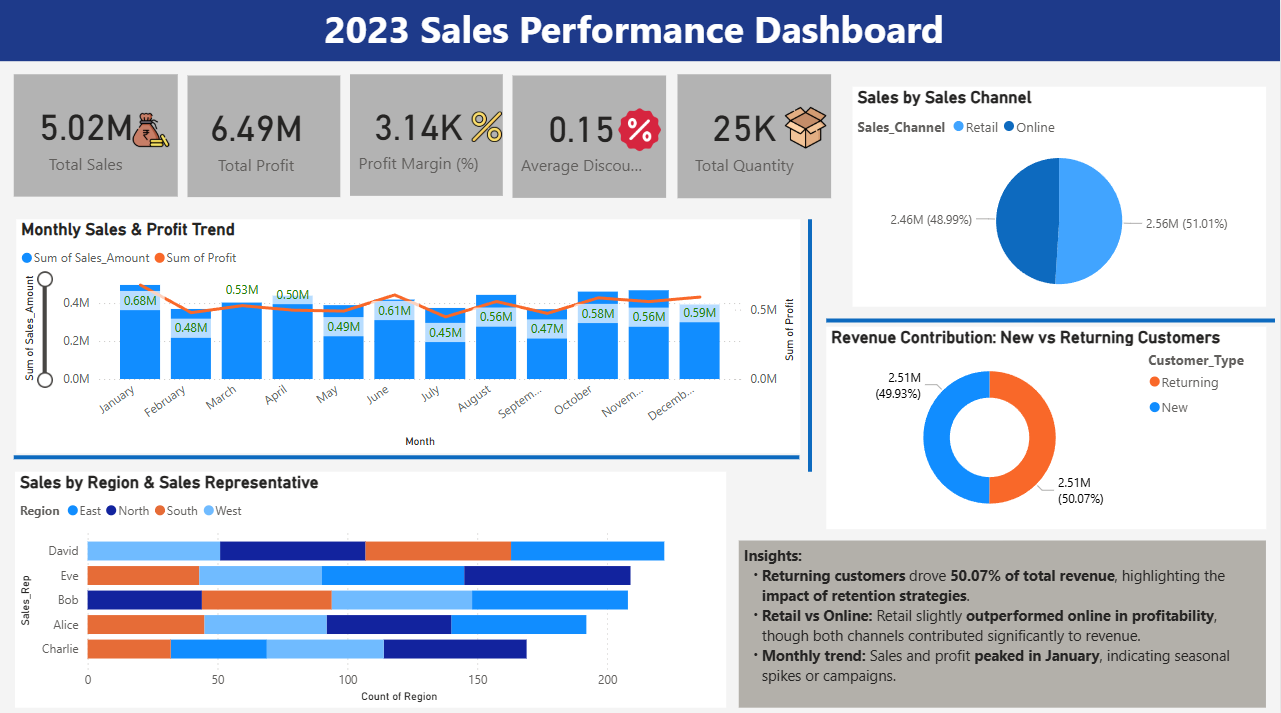

What the dashboard file says about the page in this screenshot:
{"tool":"powerbi","page":{"name":"Page 1","canvas":[1280,720],"ordinal":0},"visuals":[{"type":"textbox","box":[0,0,1280,62.9],"z":0},{"type":"card","fields":{"Values":["sales_data.Total Sales"]},"box":[13.8,76.2,163.8,122.5],"z":1000},{"type":"card","fields":{"Values":["sales_data.Total Profit"]},"box":[187.5,77.5,152.5,121.2],"z":2000},{"type":"card","fields":{"Values":["sales_data.Profit Margin (%)"]},"box":[350,76.2,152.5,121.2],"z":3000},{"type":"card","fields":{"Values":["sales_data.Average Discount (%)"]},"box":[512.5,77.5,153.8,122.5],"z":4000},{"type":"card","fields":{"Values":["sales_data.Total Quantity"]},"box":[677.5,76.2,153.8,123.8],"z":5000},{"type":"lineClusteredColumnComboChart","title":"Monthly Sales & Profit Trend","fields":{"Y":["sales_data.Sales_Amount"],"Y2":["sales_data.Profit"],"Category":["sales_data.Sale_Date.Variation.Date Hierarchy.Month"]},"box":[16.2,221.2,783.8,233.8],"z":6000},{"type":"pieChart","title":"Sales by Sales Channel","fields":{"Category":["sales_data.Sales_Channel"],"Y":["sales_data.Sales_Amount"]},"box":[852.5,88.8,413.8,220],"z":7000},{"type":"donutChart","title":"Revenue Contribution: New vs Returning Customers","fields":{"Category":["sales_data.Customer_Type"],"Y":["sales_data.Sales_Amount"]},"box":[826.2,328.8,440,202.5],"z":8000},{"type":"barChart","title":"Sales by Region & Sales Representative","fields":{"Category":["sales_data.Sales_Rep"],"Series":["sales_data.Region"],"Y":["sales_data.Region"]},"box":[15,473.8,711.2,236.2],"z":9000},{"type":"shape","box":[777.5,221.2,65,252.5],"z":10000},{"type":"shape","box":[826.2,293.8,448.8,57.5],"z":11000},{"type":"shape","box":[14.3,430,785.7,58.6],"z":12000},{"type":"image","box":[123.8,108.8,53.8,46.2],"z":16000},{"type":"image","box":[780,102.5,51.2,53.8],"z":16001},{"type":"image","box":[461.2,108.8,51.2,40],"z":16002},{"type":"image","box":[611.2,105,57.5,53.8],"z":16003},{"type":"textbox","box":[738.8,542.5,527.5,167.5],"z":16004}]}

Visuals, with their boxes in screenshot pixels (x1, y1, x2, y2), scaled from the page's 1280x720 canvas onto the 1281x713 screenshot:
textbox: [left=0, top=0, right=1280, bottom=62]
card - sales_data.Total Sales: [left=14, top=75, right=178, bottom=197]
card - sales_data.Total Profit: [left=188, top=77, right=340, bottom=197]
card - sales_data.Profit Margin (%): [left=350, top=75, right=503, bottom=195]
card - sales_data.Average Discount (%): [left=513, top=77, right=667, bottom=198]
card - sales_data.Total Quantity: [left=678, top=75, right=832, bottom=198]
"Monthly Sales & Profit Trend" lineClusteredColumnComboChart: [left=16, top=219, right=801, bottom=451]
"Sales by Sales Channel" pieChart: [left=853, top=88, right=1267, bottom=306]
"Revenue Contribution: New vs Returning Customers" donutChart: [left=827, top=326, right=1267, bottom=526]
"Sales by Region & Sales Representative" barChart: [left=15, top=469, right=727, bottom=703]
shape: [left=778, top=219, right=843, bottom=469]
shape: [left=827, top=291, right=1276, bottom=348]
shape: [left=14, top=426, right=801, bottom=484]
image: [left=124, top=108, right=178, bottom=153]
image: [left=781, top=102, right=832, bottom=155]
image: [left=462, top=108, right=513, bottom=147]
image: [left=612, top=104, right=669, bottom=157]
textbox: [left=739, top=537, right=1267, bottom=703]
